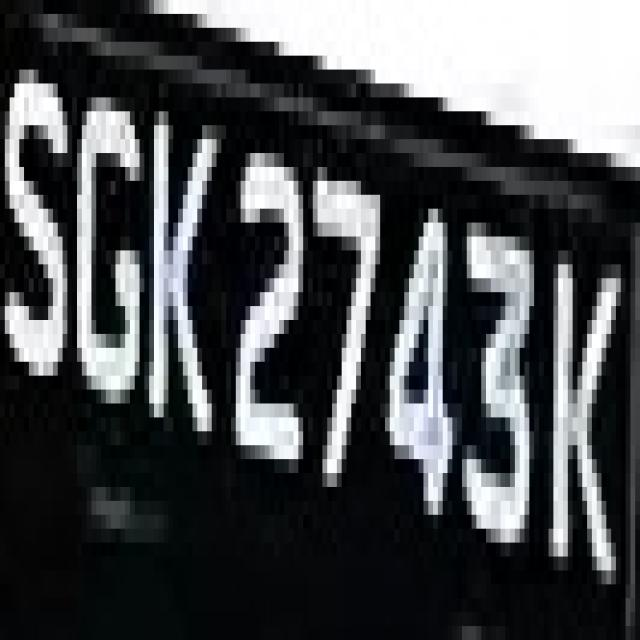2: (222, 139, 322, 529)
3: (462, 195, 539, 556)
4: (371, 167, 466, 543)
7: (289, 111, 375, 515)
G: (68, 70, 144, 459)
K: (144, 56, 217, 487), (4, 4, 5, 14)
S: (5, 42, 72, 445)
